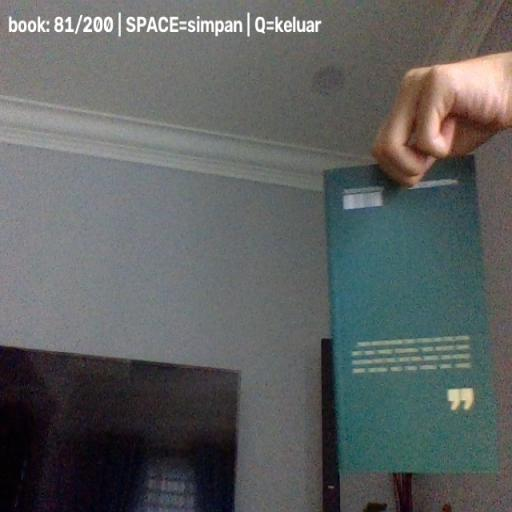Book: (324, 156, 500, 476)
